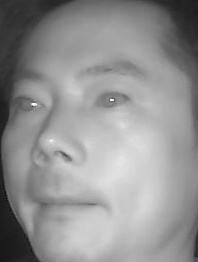eye: (92, 86, 131, 111), (10, 92, 46, 114)
mouth: (30, 183, 99, 225)
